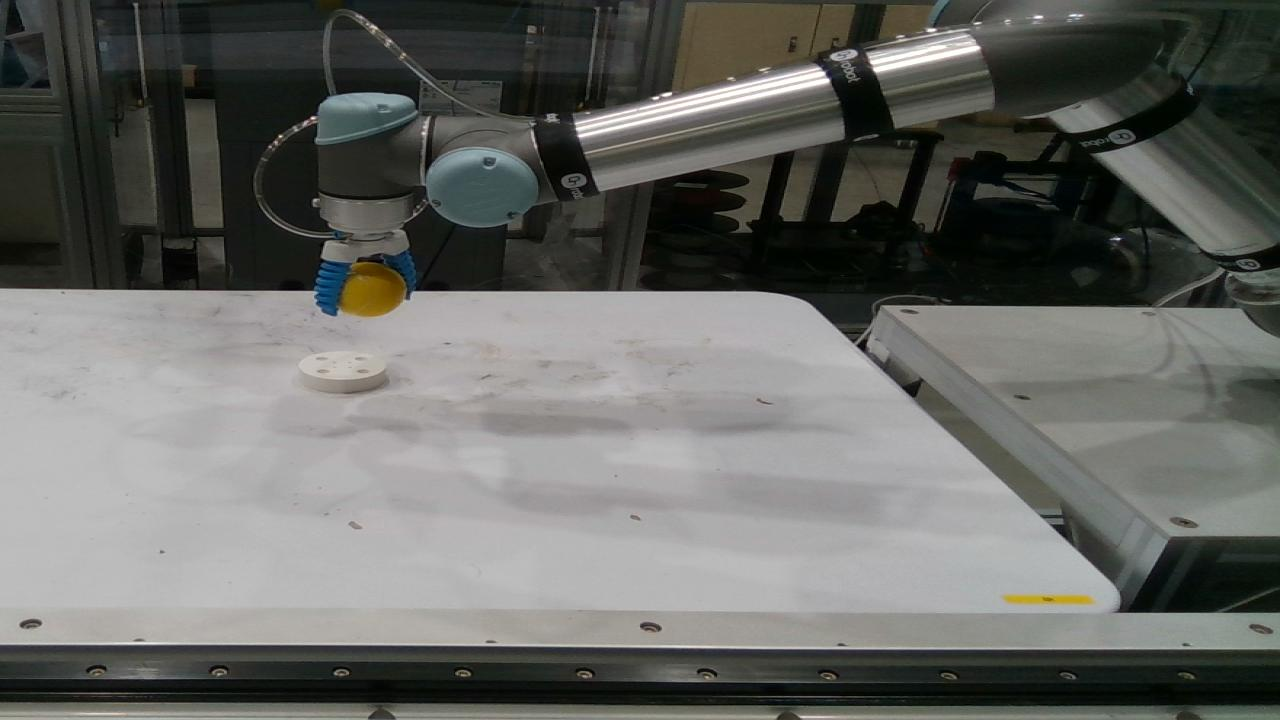UR5: (314, 0, 1279, 338)
gripper_left: (382, 250, 417, 304)
gripper_right: (315, 262, 351, 316)
target: (328, 261, 405, 316), (299, 351, 388, 394)
